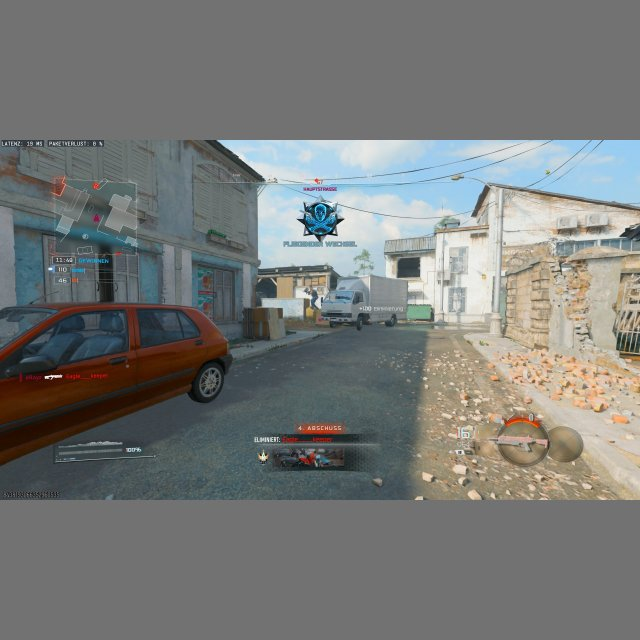player: (308, 286, 320, 309)
